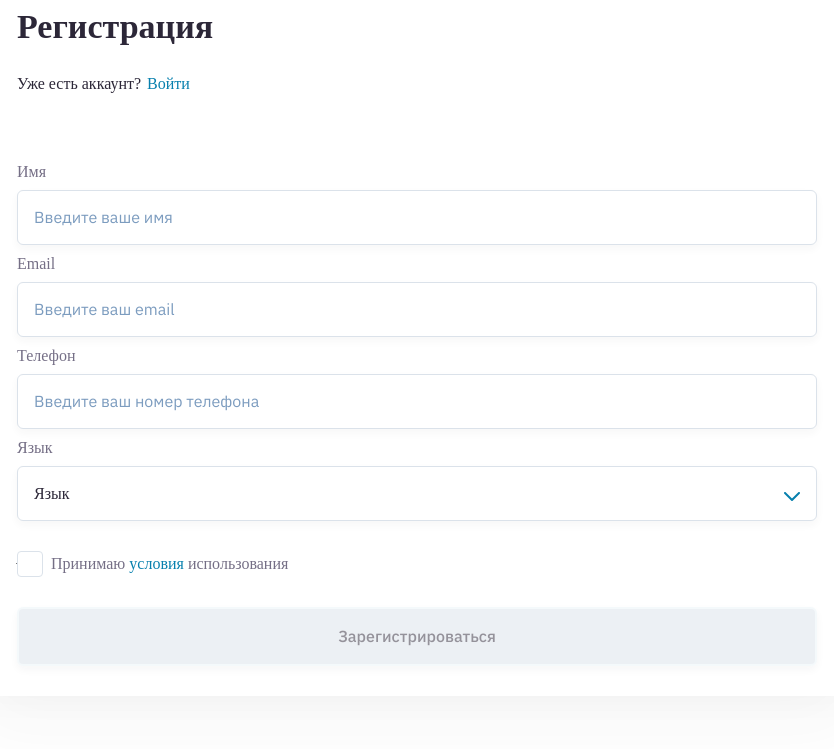
Test: SignUpContainer › Render nameError when name has number
This screenshot has width=834, height=749.
Step 1. Type "ss23" into the field with placeholder "Введите ваше имя" → (417, 217), box [17,190,817,245]
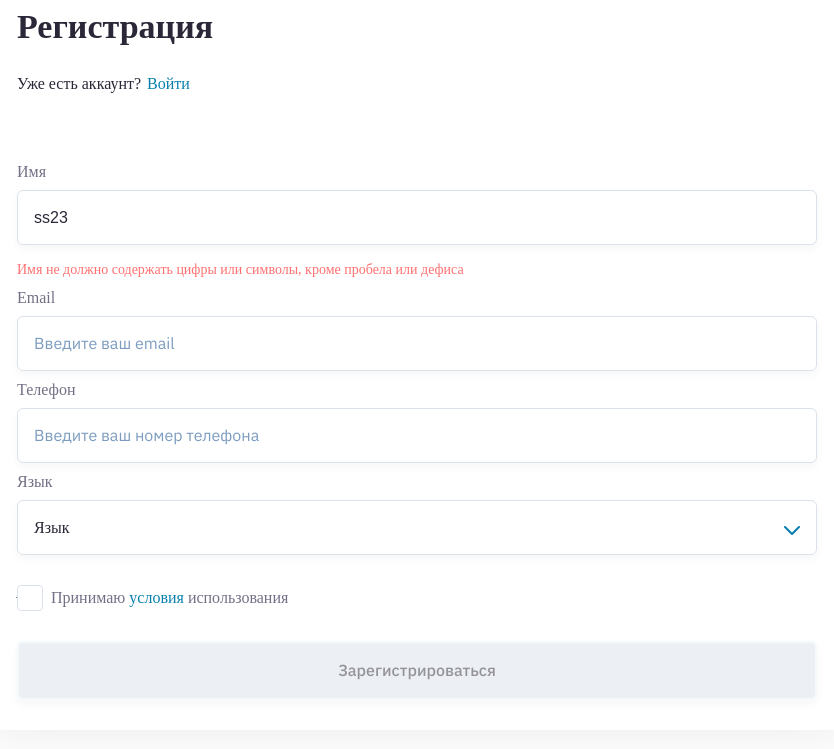
Check: the text "Имя не должно содержать цифры или символы, кроме пробела или дефиса" is shown, box [17,262,464,277]
